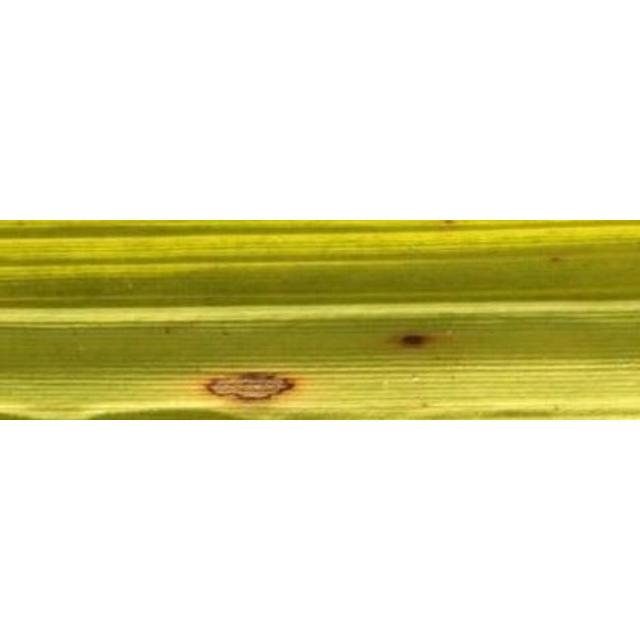Brown spot: (0, 176, 640, 450)
